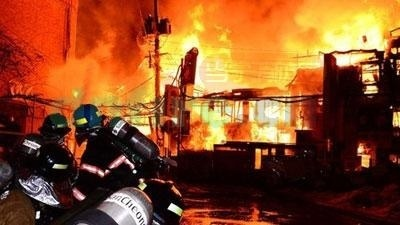fire: (93, 6, 387, 155)
